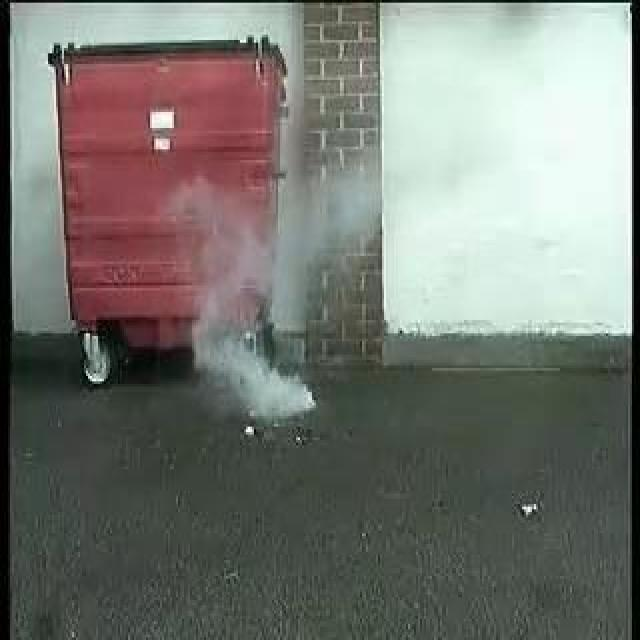Smoke: (177, 187, 317, 421)
